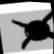not correct: (7, 7, 54, 54)
